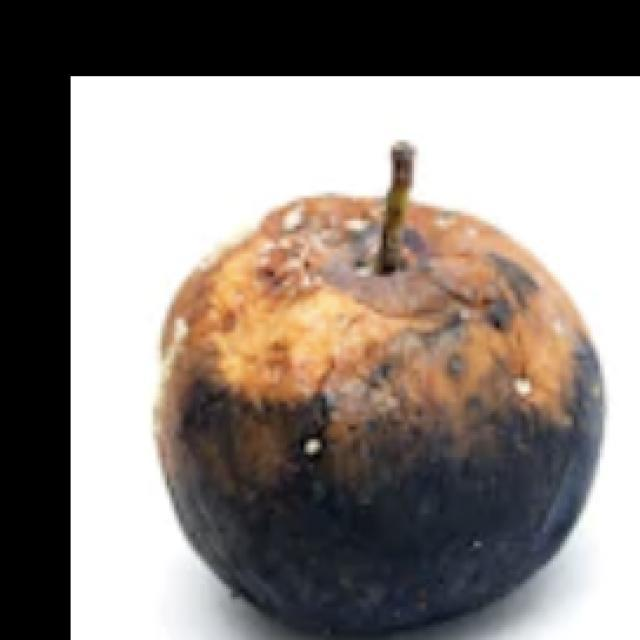Rotten: (166, 187, 610, 638)
